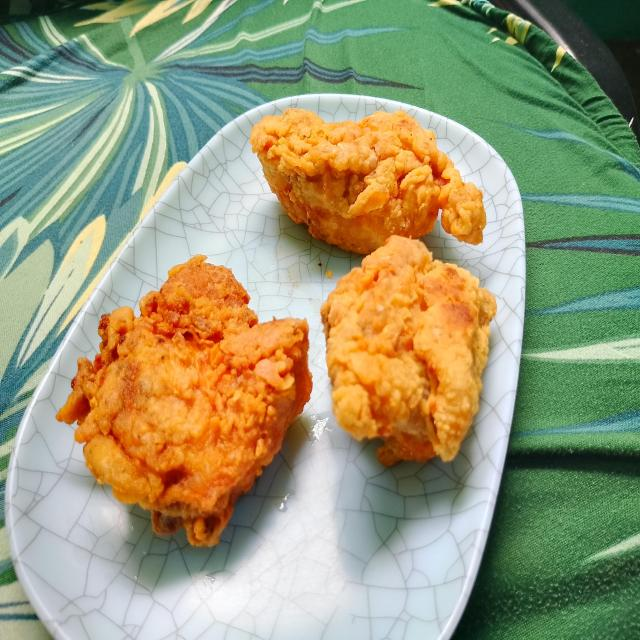Chicken -Fried Chicken-: (74, 260, 292, 508), (237, 83, 494, 262), (324, 234, 494, 501)
